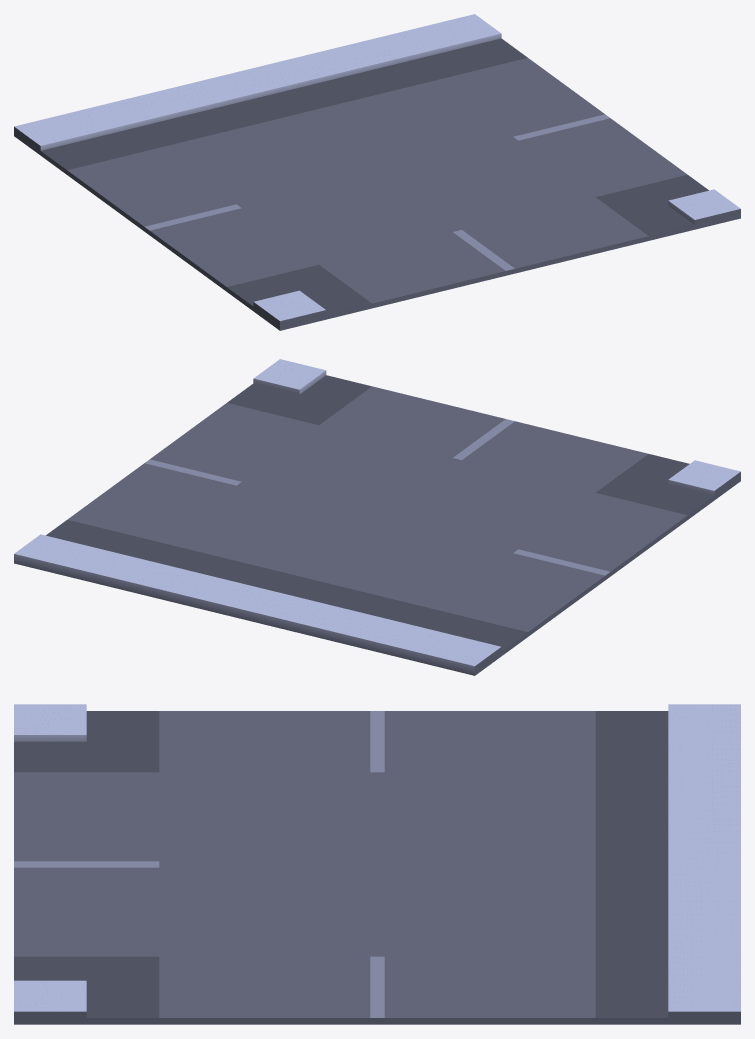
Rendered from road-intersection.glb.
3 views of the same model, one above another, from view 1: azimuth 30°, elevation 25°; view 2: azimuth 150°, elevation 25°; view 3: azimuth 270°, elevation 25° (orthographic). The views are drawn at different scales.
Parts seen in each view (by area): view 1: road-intersection; view 2: road-intersection; view 3: road-intersection.
Boxes of the visible parts, bbox=[...] form: road-intersection: bbox=[14, 14, 740, 330]; road-intersection: bbox=[14, 359, 740, 675]; road-intersection: bbox=[14, 704, 740, 1024].
Size of the model in its own units: 1 by 0.02 by 1.
